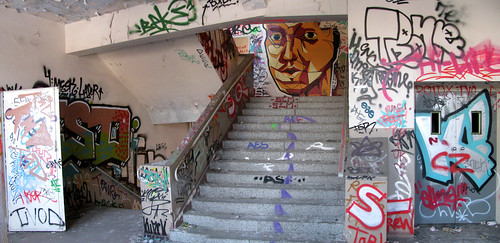door: (414, 87, 498, 222)
graffiti: (348, 10, 500, 243), (2, 72, 155, 240), (228, 12, 349, 92), (124, 1, 212, 43), (136, 160, 178, 239)
